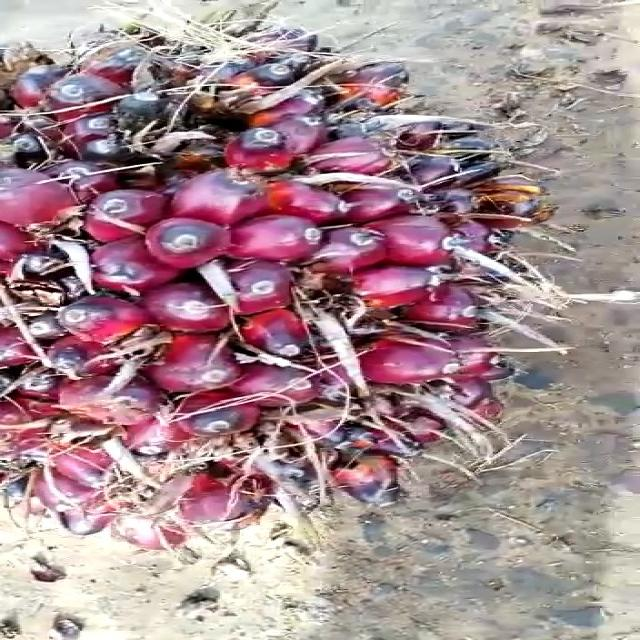palm oil: (0, 20, 582, 568)
